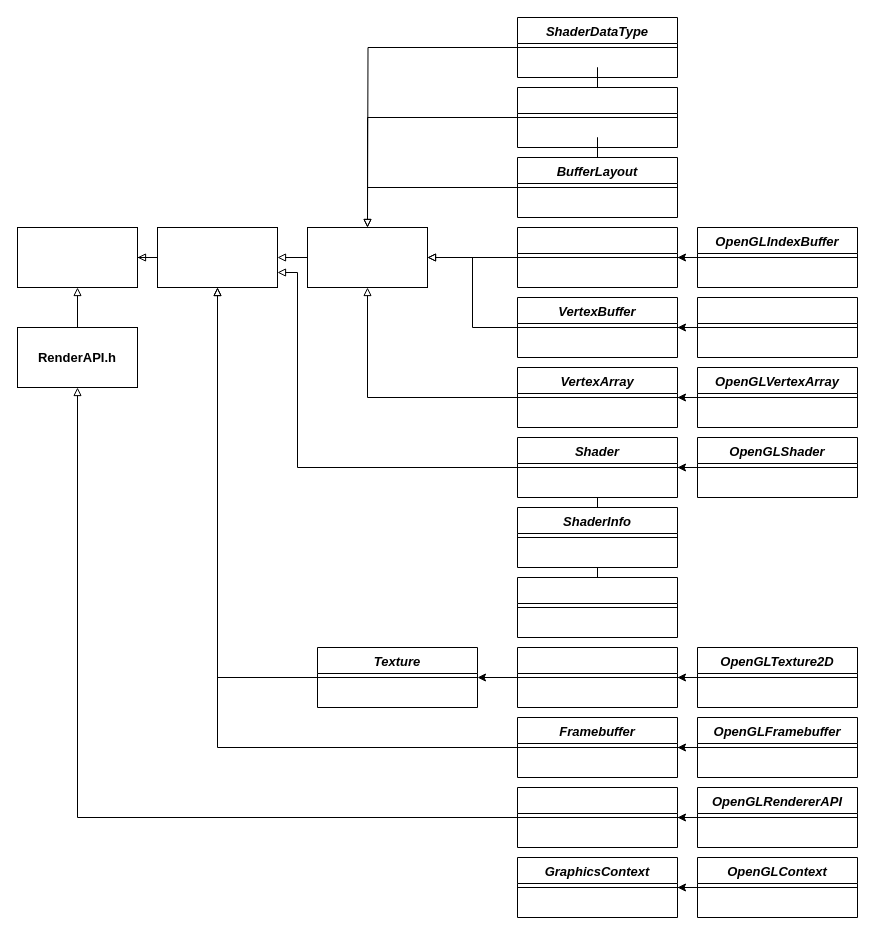
This 875x935 diagram has some shape labels left out. The shapes that lost their labels are listed below. From the top down, each one's centre as x and y in pixels, then its label:
the point at 597,117: BufferElement
the point at 77,257: RenderCommand.h
the point at 217,257: Renderer.h
the point at 367,257: Buffer.h
the point at 597,257: IndexBuffer
the point at 777,327: OpenGLVertexBuffer
the point at 597,607: ShaderType
the point at 597,677: Texture2D
the point at 597,817: RendererAPI
